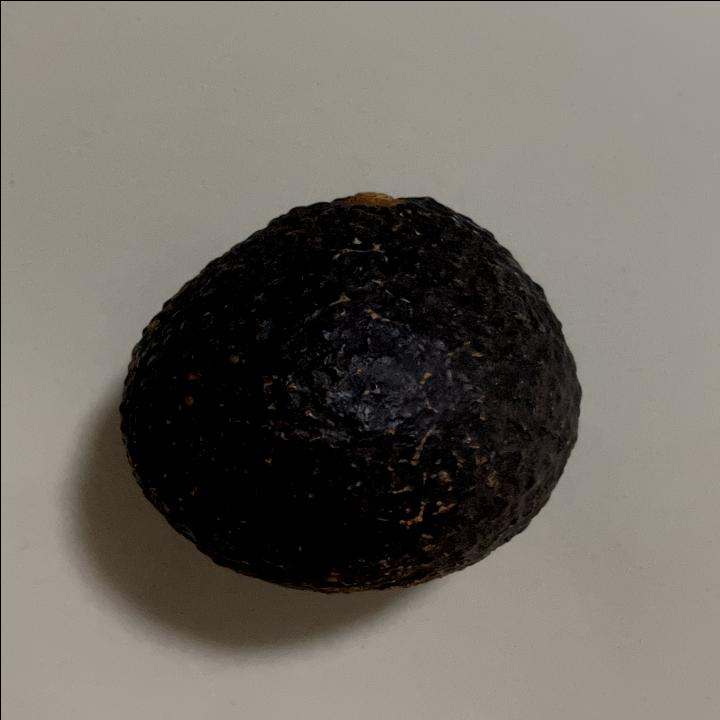Level2: (110, 191, 588, 597)
